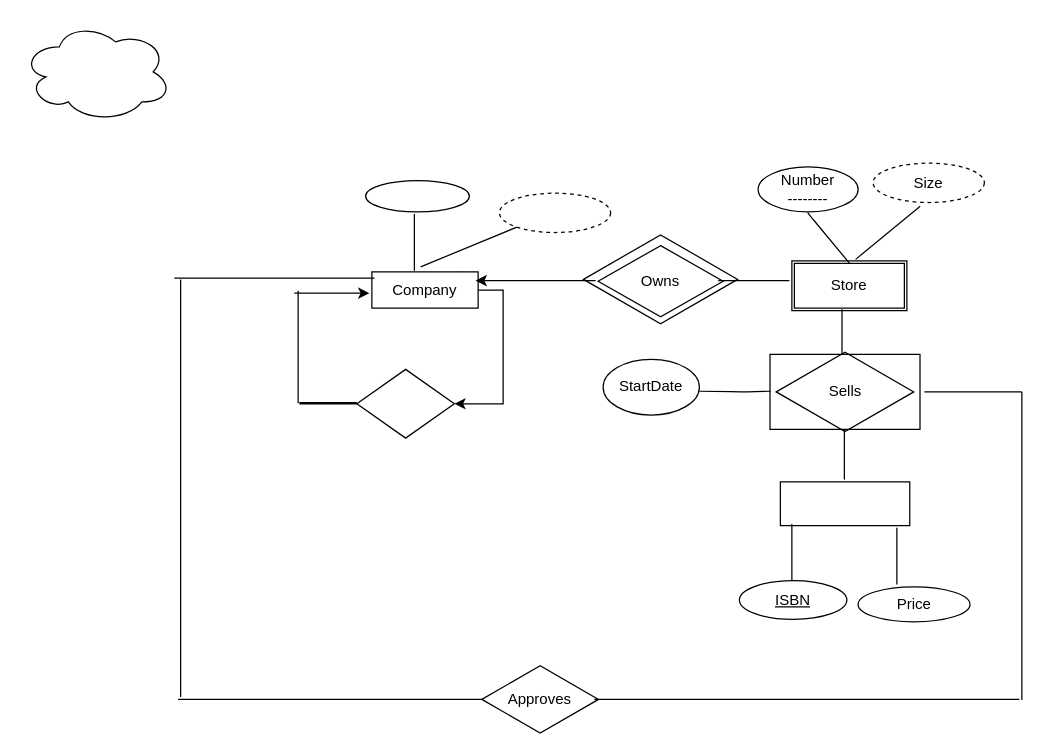
This 1050x756 diagram has some shape labels left out. Here are the shapes that lost their labels. From the top down, the centre of each, then its label:
the point at 96,71: jy3555
the point at 416,195: TIN
the point at 554,212: Fee
the point at 405,403: Helps
the point at 844,503: Book
